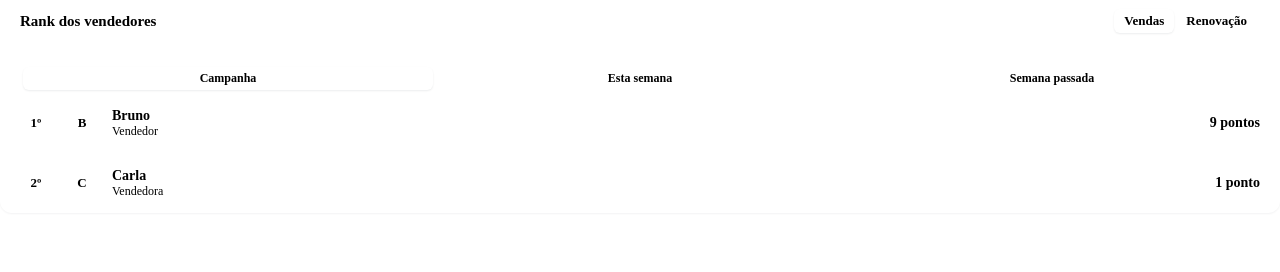
Test: RankWidget › período: campanha (padrão), esta semana com movimento e semana passada
Expected: the text "Bruno" is shown, left=112, top=108, right=150, bottom=122
What coordinates should you click on to do the following:
click the button "Esta semana"
I would click on:
 (640, 78)
Its box is left=435, top=67, right=845, bottom=90.
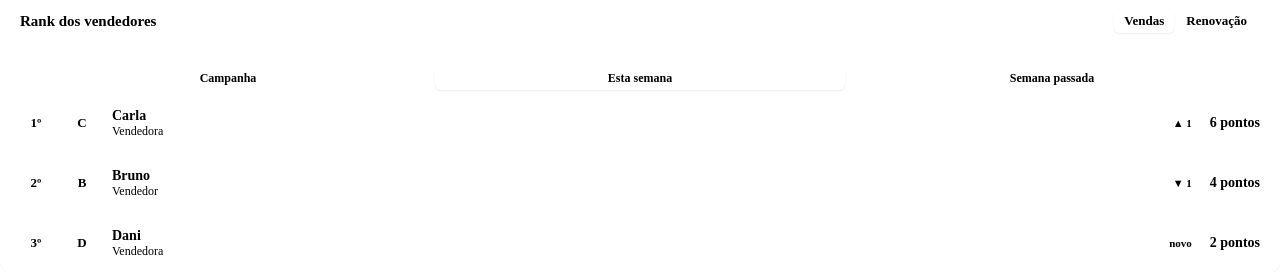
Result: the text "Dani" is shown at left=112, top=228, right=141, bottom=242
What coordinates should you click on to do the following:
click the button "Semana passada"
I would click on:
 (1052, 78)
Its box is left=847, top=67, right=1257, bottom=90.
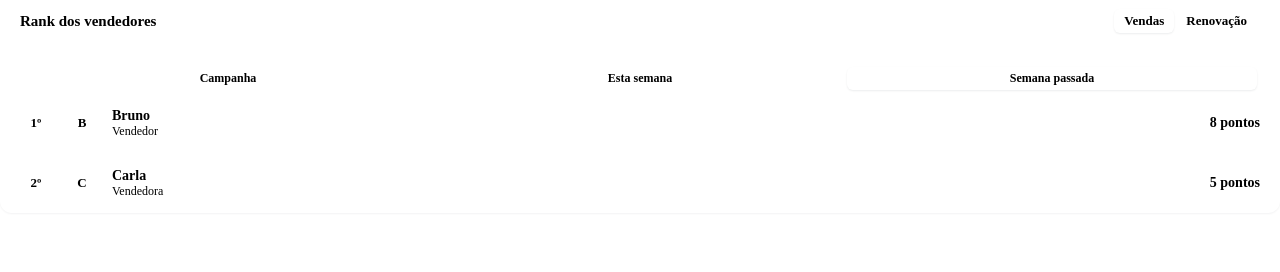
Expected: the text "desde a semana passada" is not shown
Result: the text "Dani" is gone
Result: the number of list items is 2 at left=0, top=93, right=1279, bottom=153; left=0, top=153, right=1279, bottom=213
